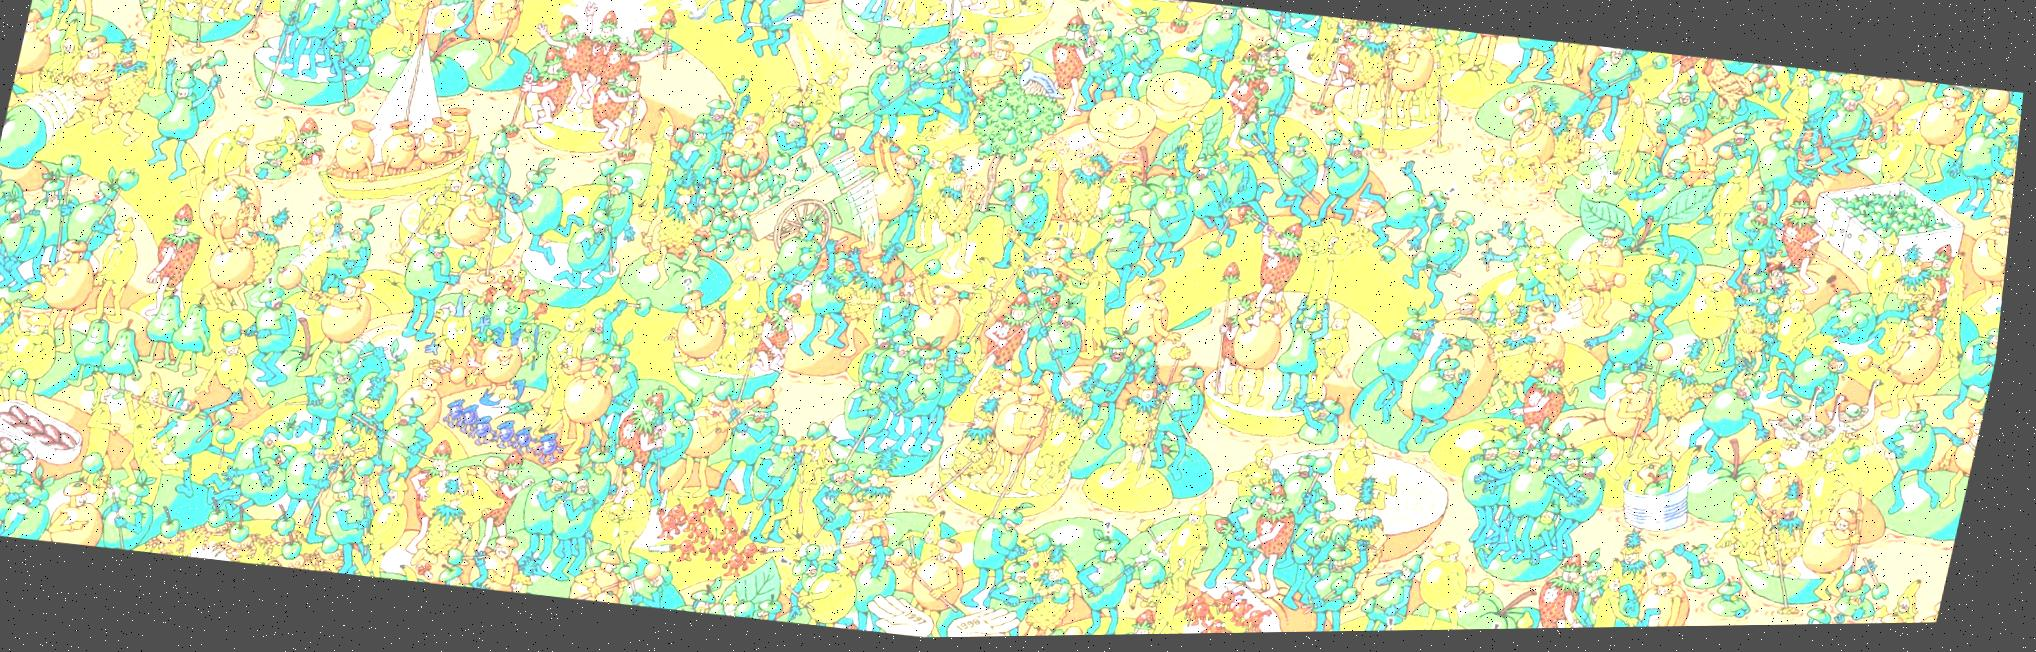waldo: (1769, 268, 1792, 290)
